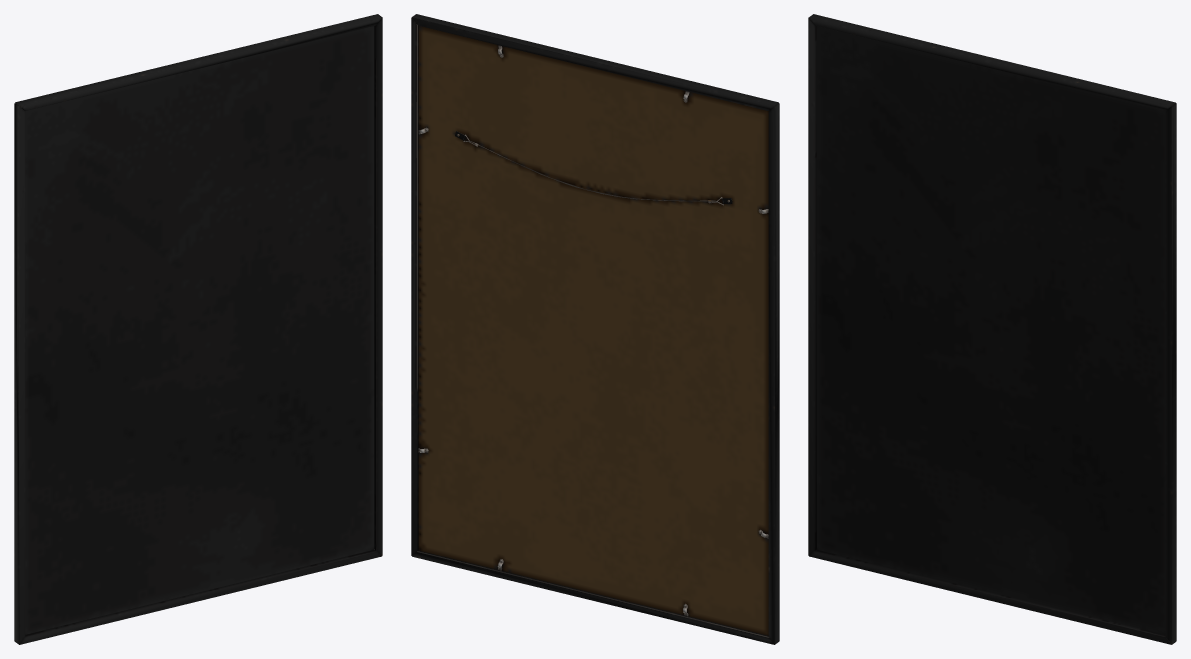
The model's file is hanging_picture_frame_01.glb.
3 views of the same model, side by side, from view 1: azimuth 30°, elevation 25°; view 2: azimuth 150°, elevation 25°; view 3: azimuth 330°, elevation 25° (orthographic).
Parts seen in each view (by area): view 1: hanging_picture_frame_01; view 2: hanging_picture_frame_01; view 3: hanging_picture_frame_01.
Boxes of the visible parts, x1,y1,x2,y2 form: hanging_picture_frame_01: [14, 14, 382, 644]; hanging_picture_frame_01: [411, 14, 779, 644]; hanging_picture_frame_01: [808, 14, 1176, 644].
Bounding box in the file's own units: 0.5938 × 0.841 × 0.0154.
3 materials, 3 textured.
